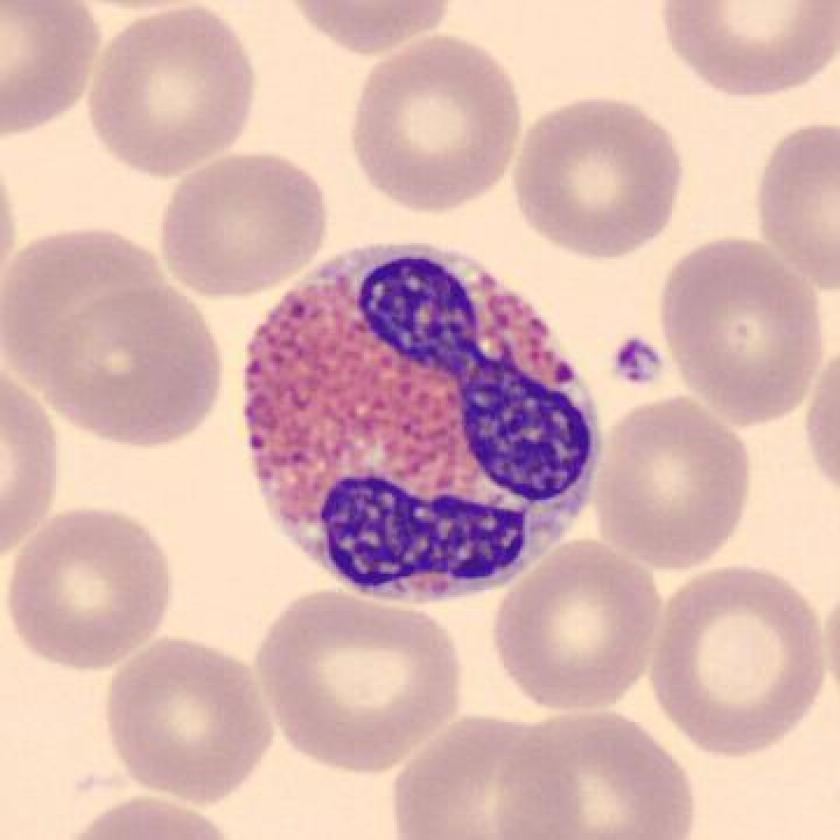eosinophil: (225, 228, 612, 626)
